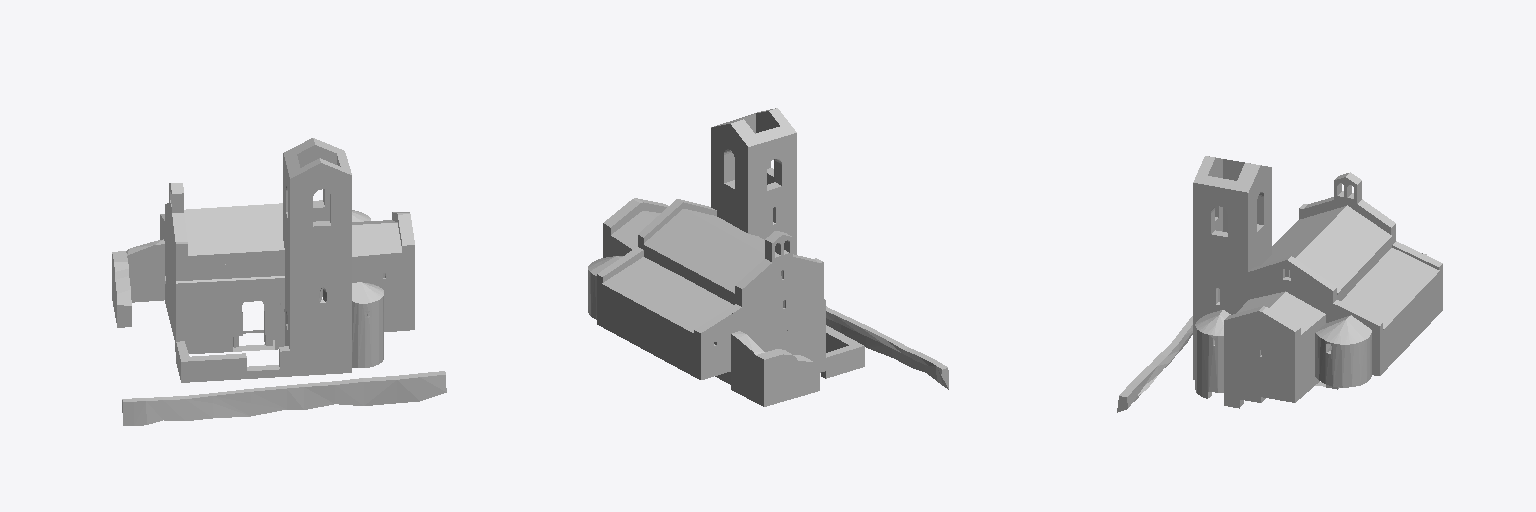
Rendered from Pedret_XIII_1.obj.
3 renders of one model, left to right at view 1: azimuth 30°, elevation 25°; view 2: azimuth 150°, elevation 25°; view 3: azimuth 270°, elevation 25°, orthographic.
Visible parts, largest first — view 1: PEDRET_XIII-baked-1; view 2: PEDRET_XIII-baked-1; view 3: PEDRET_XIII-baked-1.
Boxes of the visible parts, box(x1,y1,x2,y2) form: PEDRET_XIII-baked-1: box(112, 138, 446, 425); PEDRET_XIII-baked-1: box(588, 108, 948, 406); PEDRET_XIII-baked-1: box(1117, 156, 1442, 412).
Size of the model in its own units: 23.23 by 16.09 by 20.89.